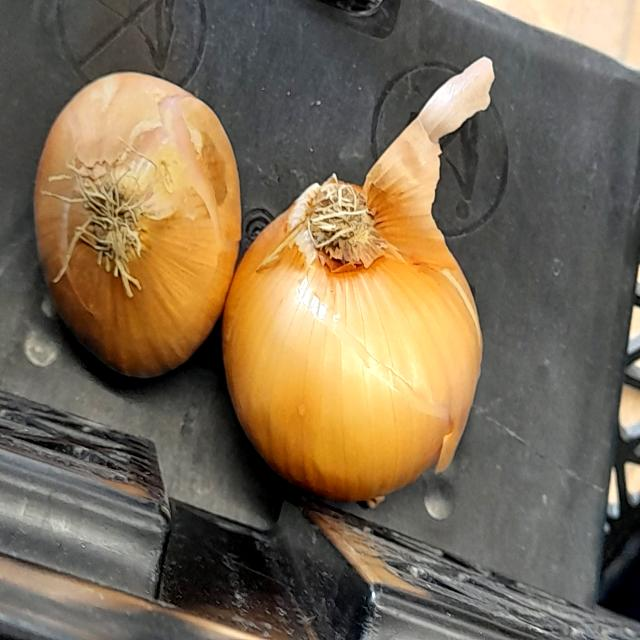onion: (231, 144, 485, 498), (31, 63, 246, 373)
